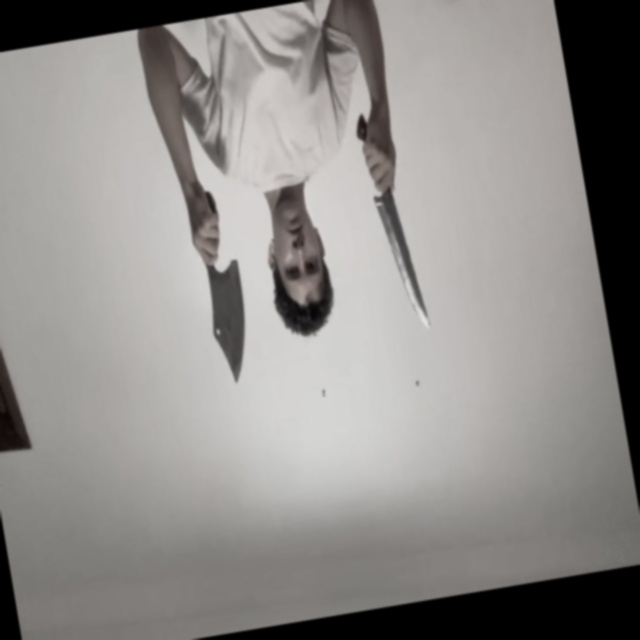Sharp-Object: (374, 194, 431, 334), (201, 261, 257, 387)
